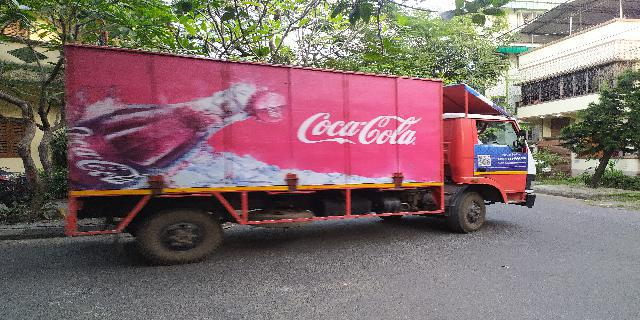Truck: (44, 47, 546, 253)
